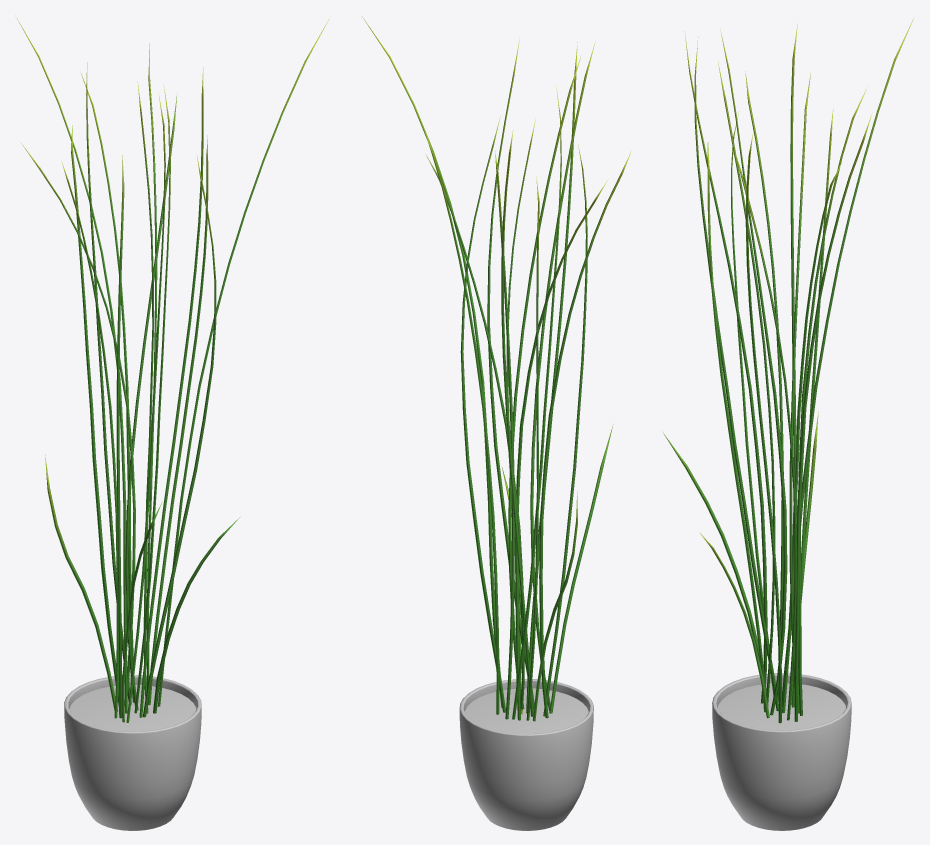
The model's file is Flower_2.FBX.
3 renders of one model, left to right at view 1: azimuth 30°, elevation 25°; view 2: azimuth 150°, elevation 25°; view 3: azimuth 270°, elevation 25°, orthographic. The views are drawn at different scales.
Visible parts, largest first — view 1: Plant, Jar; view 2: Plant, Jar; view 3: Plant, Jar.
Boxes of the visible parts, box(x1,y1,x2,y2) form: Plant: box(17, 19, 328, 722); Jar: box(64, 675, 201, 830); Plant: box(362, 17, 631, 721); Jar: box(459, 679, 593, 830); Plant: box(663, 18, 913, 723); Jar: box(712, 673, 851, 830).
Size of the model in its own units: 77.18 by 199 by 59.29.
